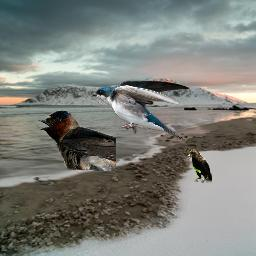Crow: (187, 149, 212, 183)
Swallow: (91, 79, 190, 140), (37, 110, 116, 172)
